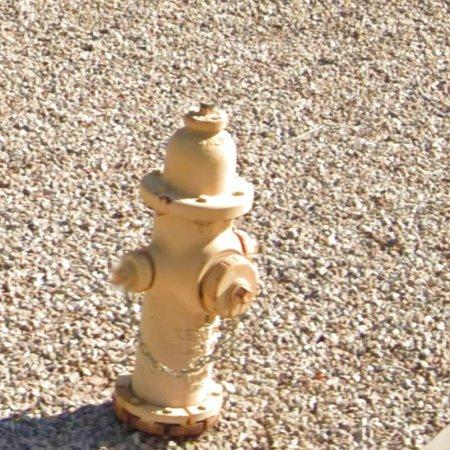a fire hydrant: (112, 104, 258, 436)
